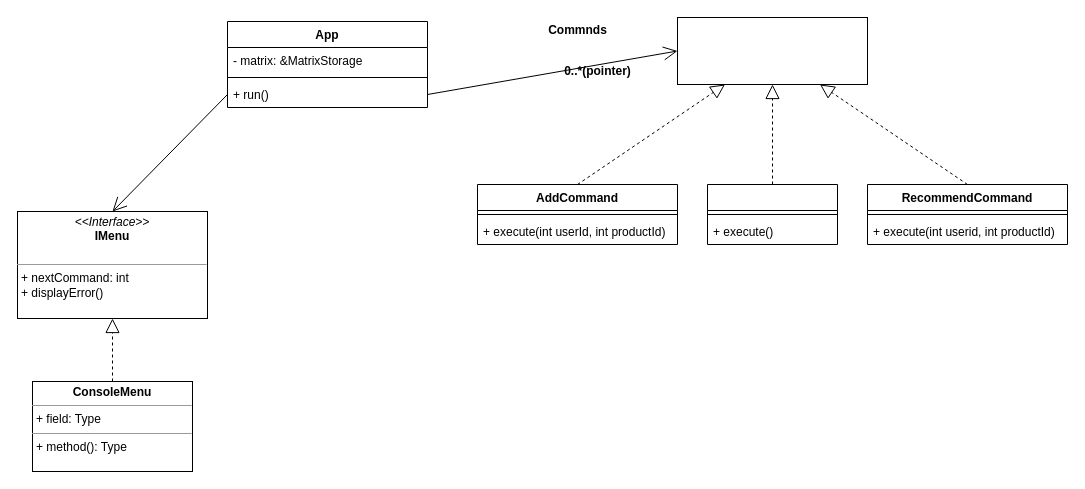
This 1085x489 diagram has some shape labels left out. Each missing label, with the box of its shape:
<<Interface>> ICommand + execute(): (676, 16, 868, 84)
HelpCommand: (706, 184, 838, 244)
